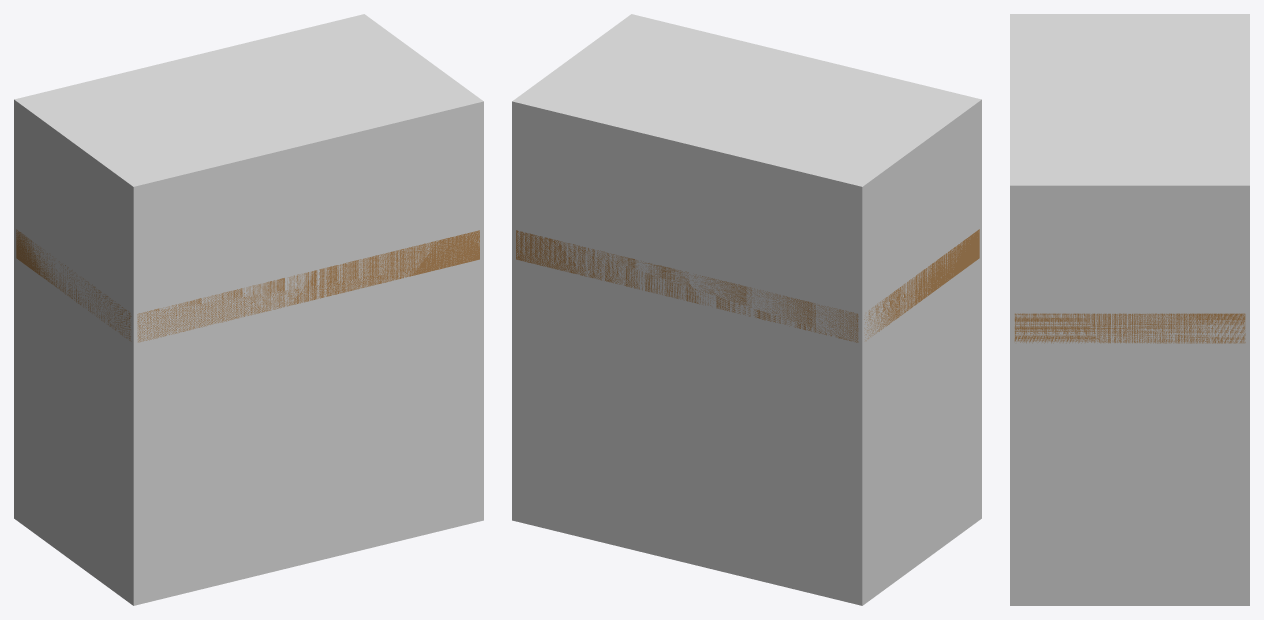
Rendered from towel-station_commercial.glb.
The picture shows the model from 3 angles, left to right: view 1: azimuth 30°, elevation 25°; view 2: azimuth 150°, elevation 25°; view 3: azimuth 270°, elevation 25°; orthographic projection.
Visible parts, largest first — view 1: COL_towel-station, MESH_Countertop; view 2: COL_towel-station, MESH_Countertop; view 3: COL_towel-station, MESH_Countertop.
Part boxes in pixels (x1,y1,x2,y2): COL_towel-station: (14,14,483,605); MESH_Countertop: (16,229,479,342); COL_towel-station: (512,14,981,605); MESH_Countertop: (516,229,979,342); COL_towel-station: (1010,14,1249,605); MESH_Countertop: (1014,313,1245,343).
Bounding box in the file's own units: 1.05 × 1.2 × 0.62.
